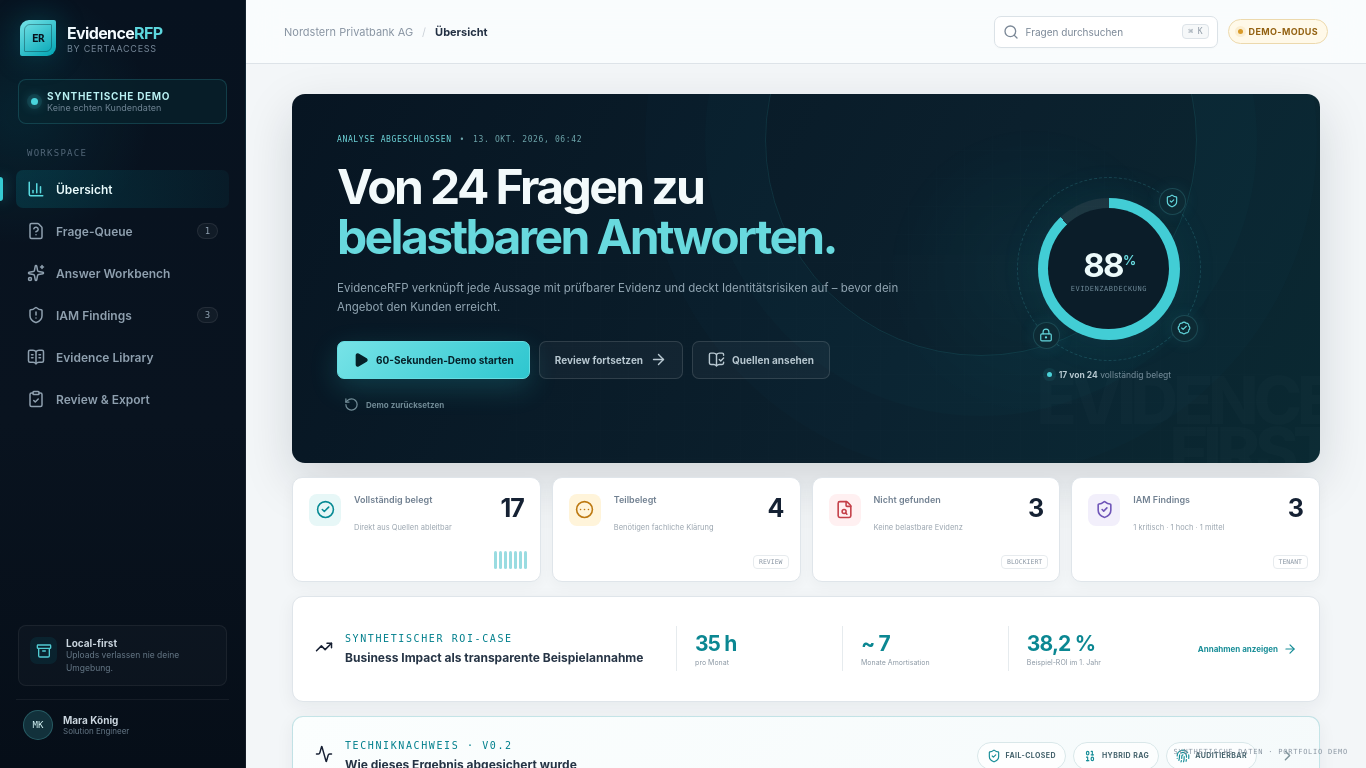
Scenario: EvidenceRFP portfolio demo › zeigt Analysekennzahlen und öffnet die Frage-Queue
The image size is (1366, 768).
Check: the heading "Von 24 Fragen zu" is shown, box [337,157,836,266]
Check: the text "17" is shown, box [500,494,524,523]
Click the text "Annahmen anzeigen" at (1247,649), box [1198,642,1297,656]
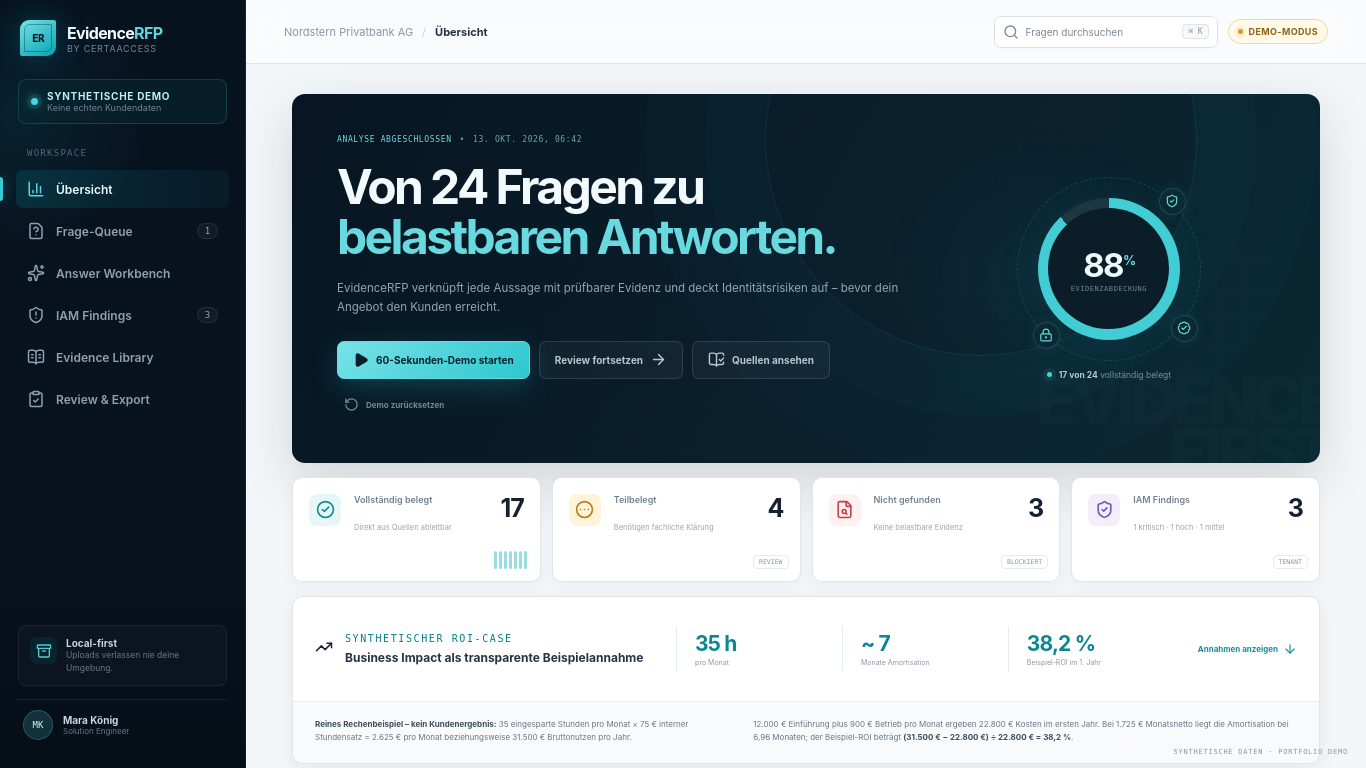
Check: the text "12.000 € Einführung plus 900 € Betrieb" is shown, box [753,719,1289,742]
Click the button "Frage-Queue 1" at (122,231), box [16,212,229,250]
(page scrolled)
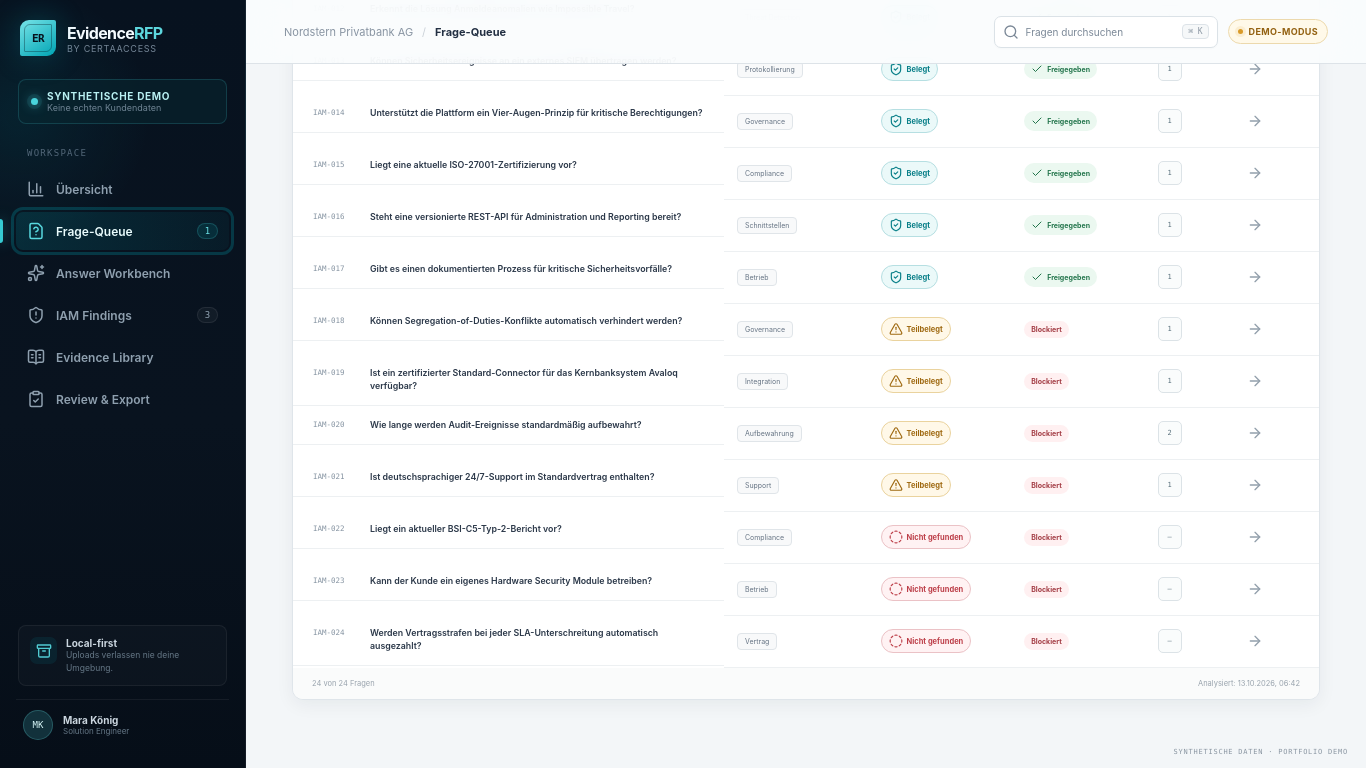
Check: the text "IAM-024" is shown, box [313,628,345,637]
